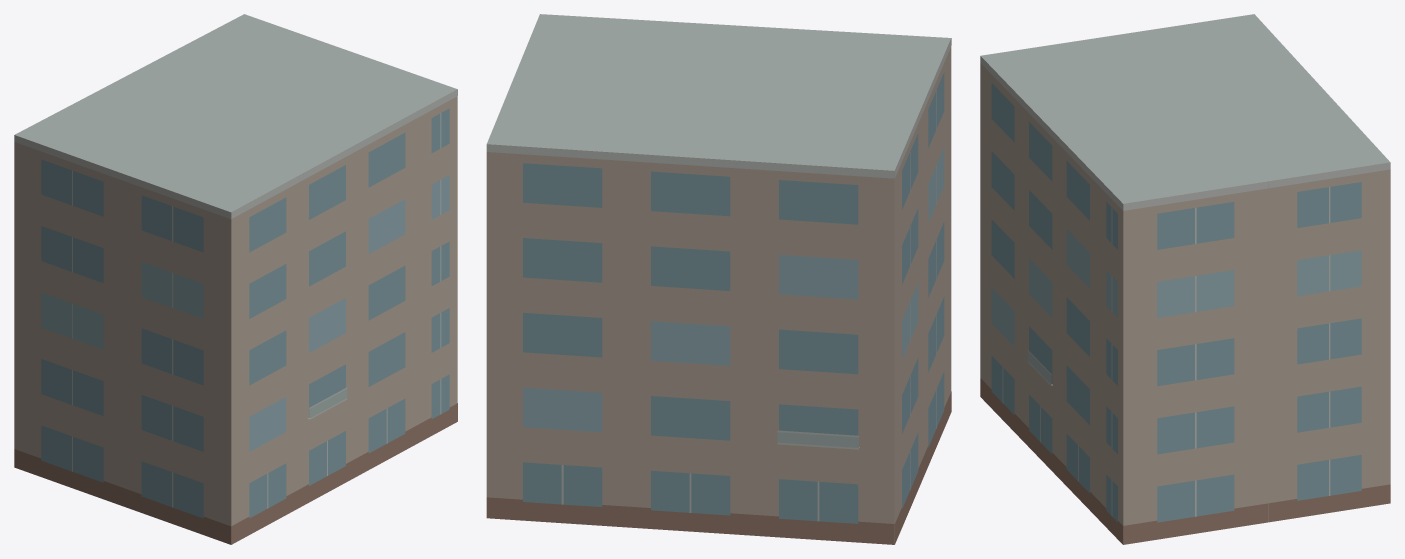
The model's file is survey-upis-32857428.glb.
The picture shows the model from 3 angles, left to right: view 1: azimuth 30°, elevation 25°; view 2: azimuth 150°, elevation 25°; view 3: azimuth 270°, elevation 25°; orthographic projection. The views are drawn at different scales.
Visible parts, largest first — view 1: survey-upis-32857428.tmp; view 2: survey-upis-32857428.tmp; view 3: survey-upis-32857428.tmp.
Part boxes in pixels (x1,y1,x2,y2): survey-upis-32857428.tmp: (14, 14, 457, 544); survey-upis-32857428.tmp: (486, 14, 951, 544); survey-upis-32857428.tmp: (980, 14, 1390, 544).
Size of the model in its own units: 14.1 by 11.8 by 12.88.
